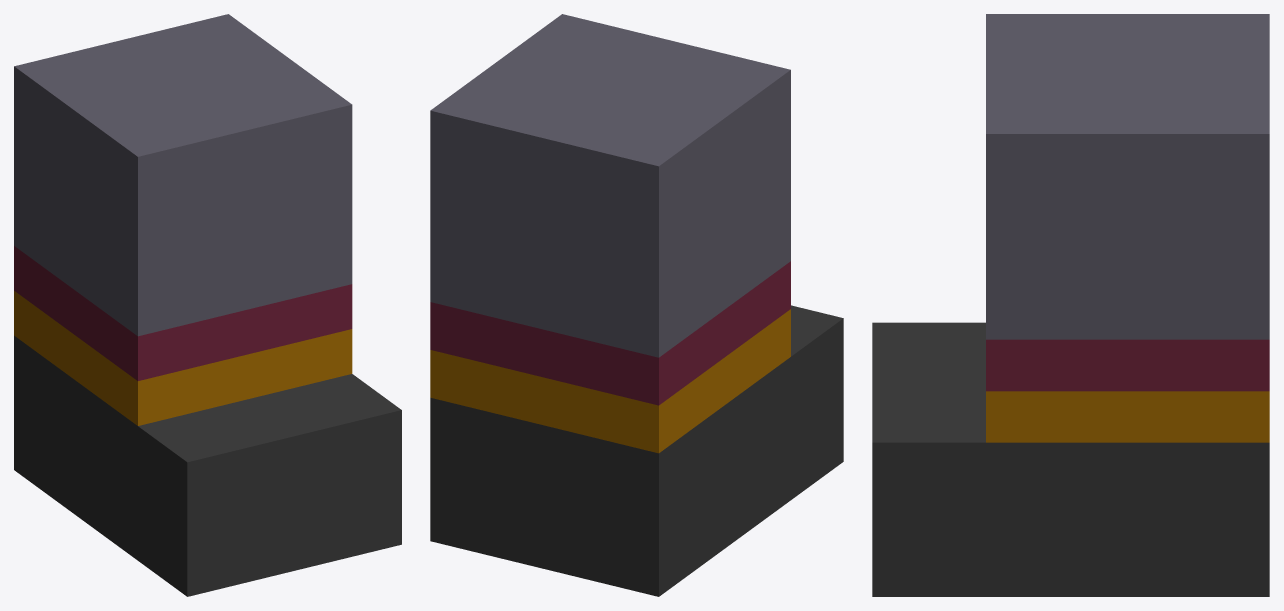
Rendered from Set-1.obj.
3 views of the same model, side by side, from view 1: azimuth 30°, elevation 25°; view 2: azimuth 150°, elevation 25°; view 3: azimuth 270°, elevation 25° (orthographic). The views are drawn at different scales.
Bounding box in the file's own units: 0.5 × 0.9 × 0.7.
Materials: 1 (1 with a texture image).
